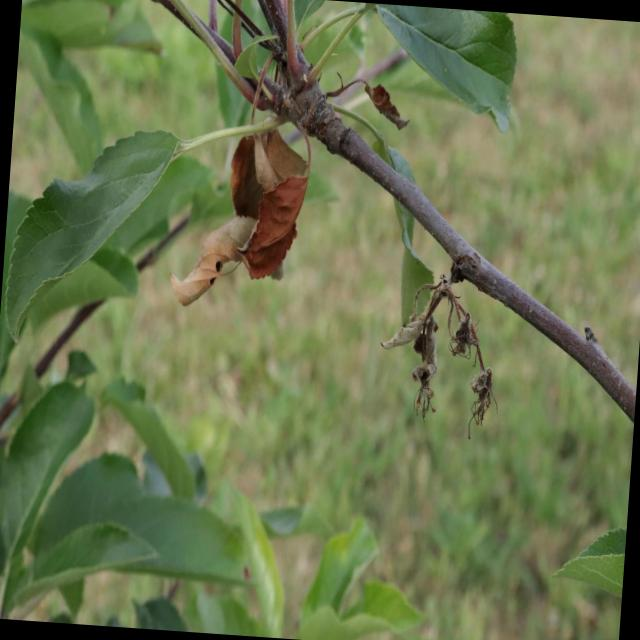-FireBlight-: (164, 97, 316, 318)
